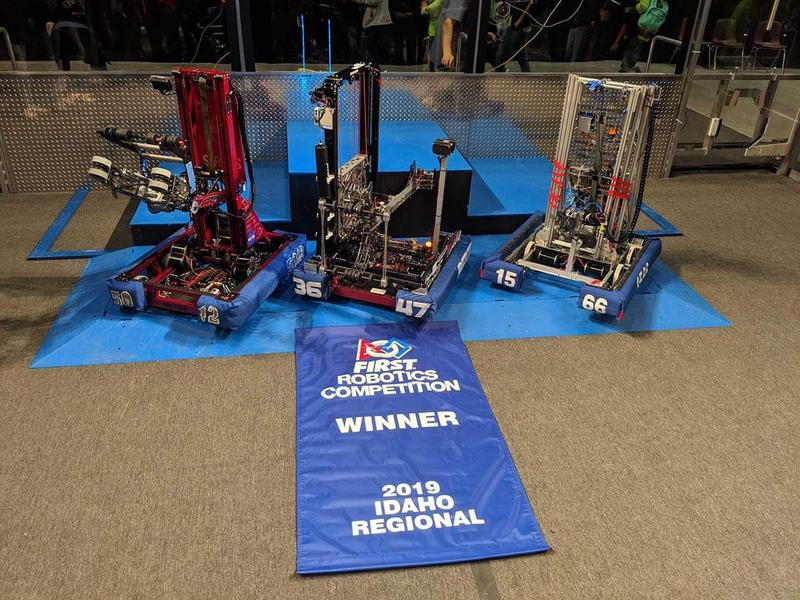robot: (107, 64, 299, 331), (293, 60, 472, 319), (482, 80, 667, 320)
